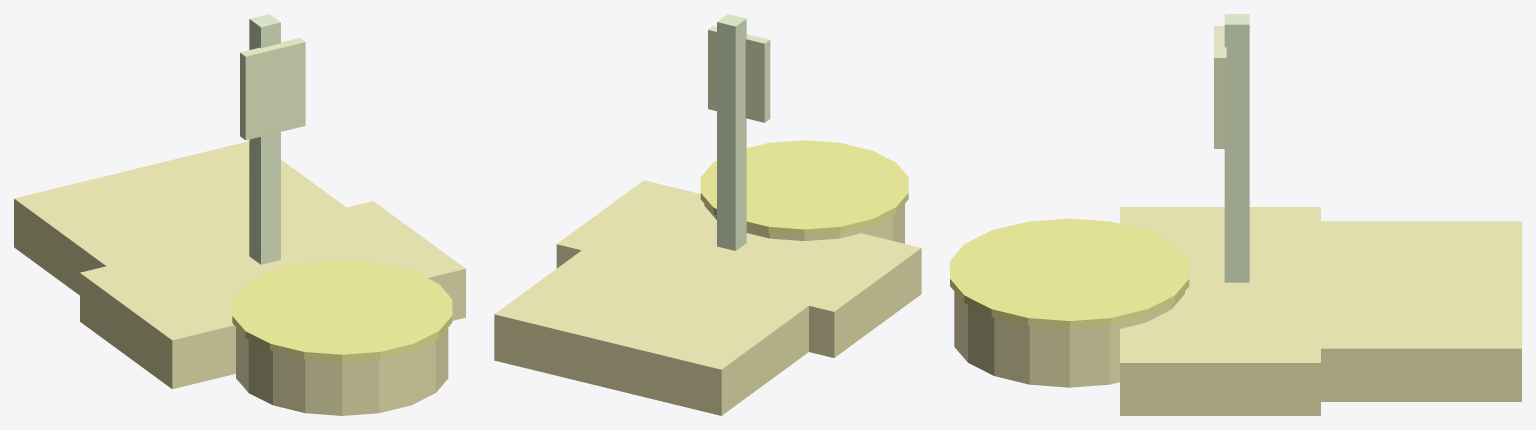
File: furniture_bus_bay_island_nose.glb
The picture shows the model from 3 angles, left to right: view 1: azimuth 30°, elevation 25°; view 2: azimuth 150°, elevation 25°; view 3: azimuth 270°, elevation 25°; orthographic projection. The views are drawn at different scales.
Visible parts, largest first — view 1: island_tail, nose_cap, nose, island_wing_left, marker_face, marker_post, island_wing_right; view 2: island_tail, nose_cap, island_wing_left, marker_post, island_wing_right, marker_face, nose; view 3: island_tail, nose_cap, island_wing_right, nose, marker_post, island_wing_left, marker_face.
Part boxes in pixels (x1,y1,x2,y2): island_tail: [14, 141, 438, 382]; nose_cap: [232, 260, 452, 361]; nose: [236, 327, 448, 415]; island_wing_left: [80, 266, 234, 389]; marker_face: [240, 38, 305, 140]; marker_post: [249, 14, 280, 264]; island_wing_right: [318, 201, 465, 320]; island_tail: [494, 186, 862, 415]; nose_cap: [700, 140, 908, 235]; island_wing_left: [793, 233, 921, 357]; marker_post: [717, 14, 746, 250]; island_wing_right: [556, 180, 706, 268]; marker_face: [708, 26, 770, 122]; nose: [704, 204, 904, 243]; island_tail: [1120, 221, 1521, 401]; nose_cap: [950, 218, 1189, 328]; island_wing_right: [1120, 345, 1320, 415]; nose: [954, 291, 1184, 387]; marker_post: [1224, 14, 1249, 282]; island_wing_left: [1120, 207, 1320, 249]; marker_face: [1214, 26, 1226, 148].
Size of the model in its own units: 0.88 by 0.84 by 1.37.
